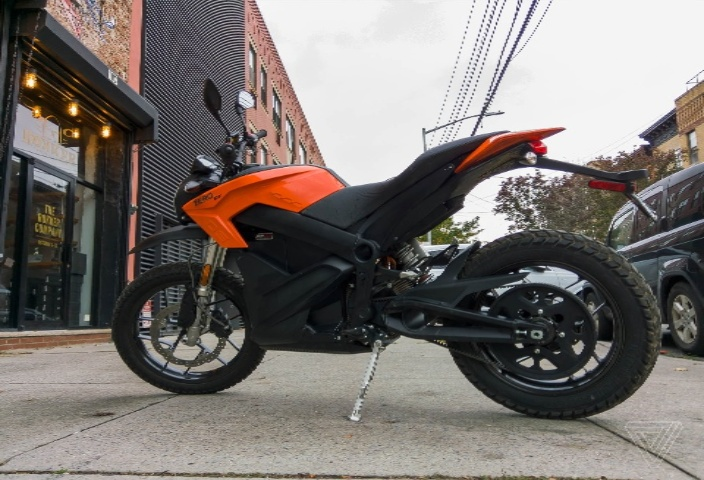motorcycle: (87, 75, 666, 445)
